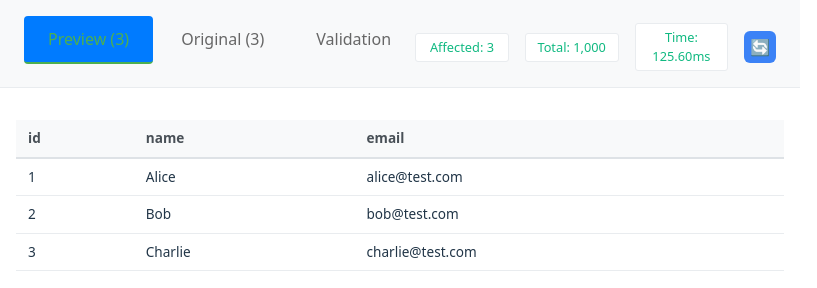
Scenario: TransformPreviewPanel › can switch between preview and original tabs
This screenshot has width=817, height=288.
Note: Switch to original tab
Click the button "Original (3)".
click(223, 40)  # box [157,16,288,64]
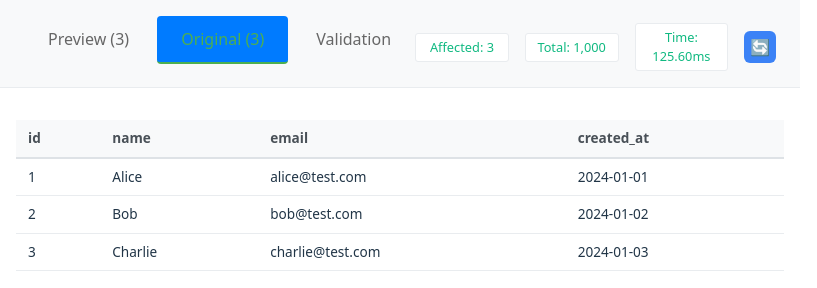
Expected: the column heading "created_at" is shown, [566,120,784,158]
Expected: the text "2024-01-01" is shown, [566,158,784,196]
